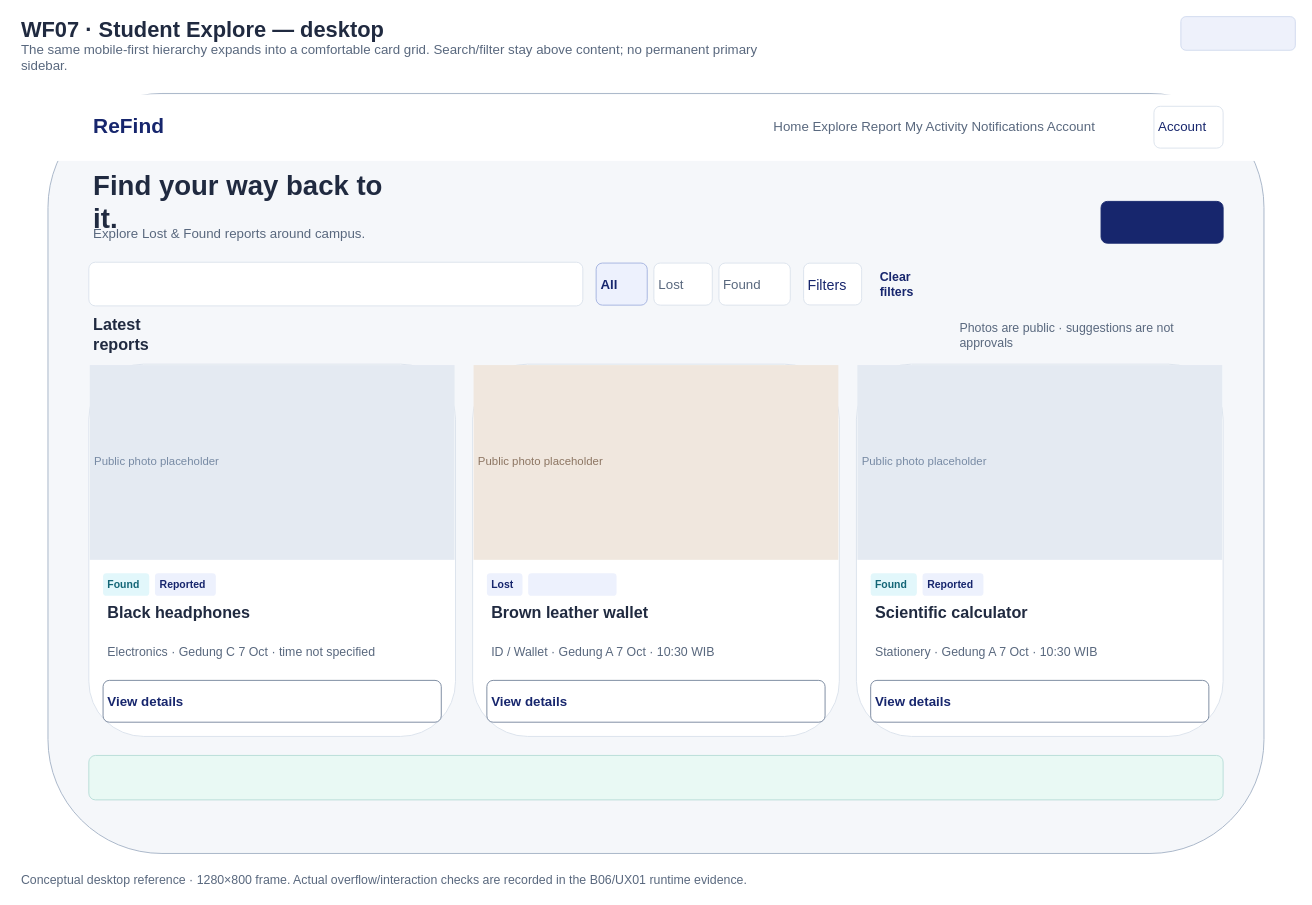
The diagram is 1312 pixels wide and 905 high, and some of its shapes have lost their labels. Here are the shapes that lost their labels. From the top down, the centre of each, then its label:
At pixel 1237 33: "CONCEPT / UX01".
At pixel 1161 221: "Report an item".
At pixel 335 283: "Search item, category or location".
At pixel 572 584: "Possible match".
